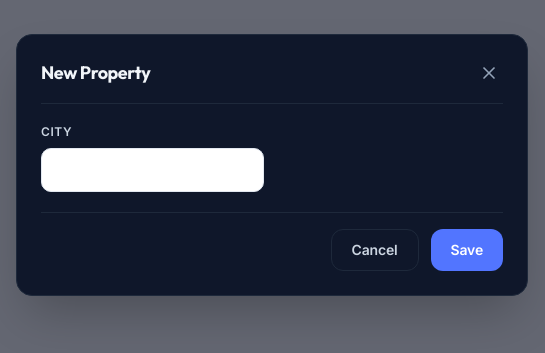
Scenario: RecordFormModal › shows a server validation error and does not close
Expected: the text "City" is shown, top-left (41, 124), bottom-right (72, 139)
Click the button "Save". click: (467, 250)
box: top-left (430, 229), bottom-right (503, 271)
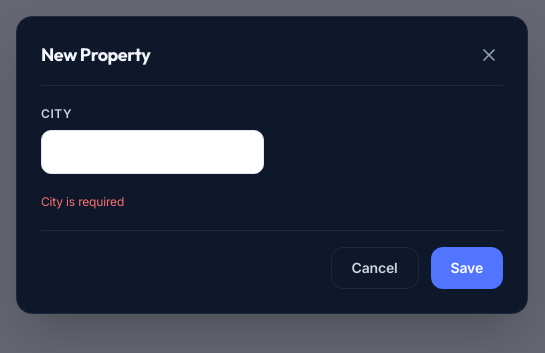
Expected: the text "City is required" is shown, top-left (41, 194), bottom-right (124, 209)
